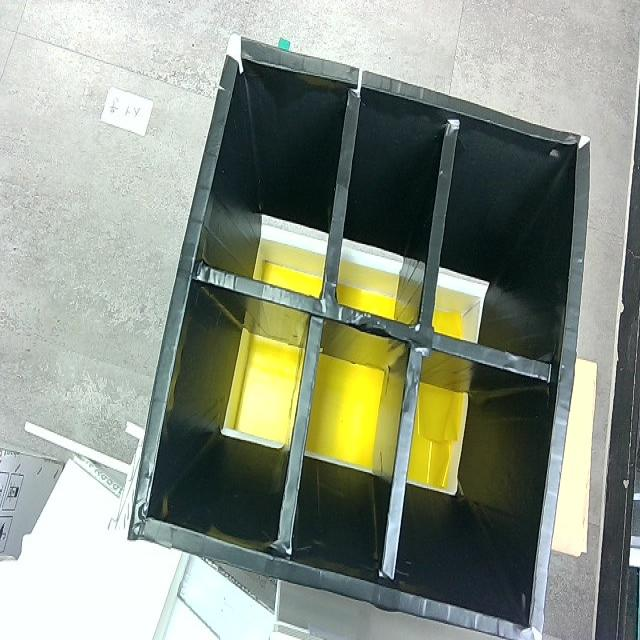box: (117, 24, 598, 640)
